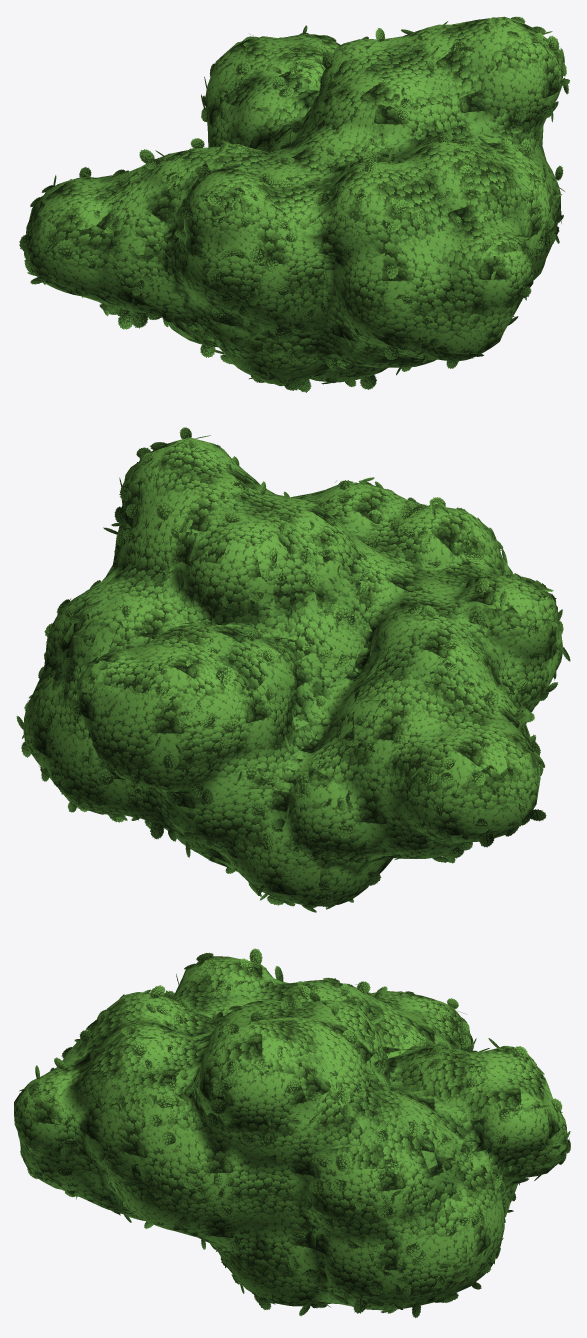
Rendered from ballbush_v2.gltf.
3 views of the same model, one above another, from view 1: azimuth 30°, elevation 25°; view 2: azimuth 150°, elevation 25°; view 3: azimuth 270°, elevation 25° (orthographic). The views are drawn at different scales.
Visible parts, largest first — view 1: ballbush_v2_volume_LOD0, ballbush_v2_leaves_LOD0; view 2: ballbush_v2_volume_LOD0, ballbush_v2_leaves_LOD0; view 3: ballbush_v2_volume_LOD0, ballbush_v2_leaves_LOD0.
Boxes of the visible parts, x1,y1,x2,y2 form: ballbush_v2_volume_LOD0: (26, 16, 562, 385); ballbush_v2_leaves_LOD0: (19, 16, 569, 392); ballbush_v2_volume_LOD0: (23, 437, 562, 906); ballbush_v2_leaves_LOD0: (16, 427, 570, 912); ballbush_v2_volume_LOD0: (14, 956, 567, 1310); ballbush_v2_leaves_LOD0: (17, 948, 570, 1317).
Size of what is drawn, in the model's own units: 2.4 by 1.66 by 2.45.
Materials: 2 (2 with a texture image).
